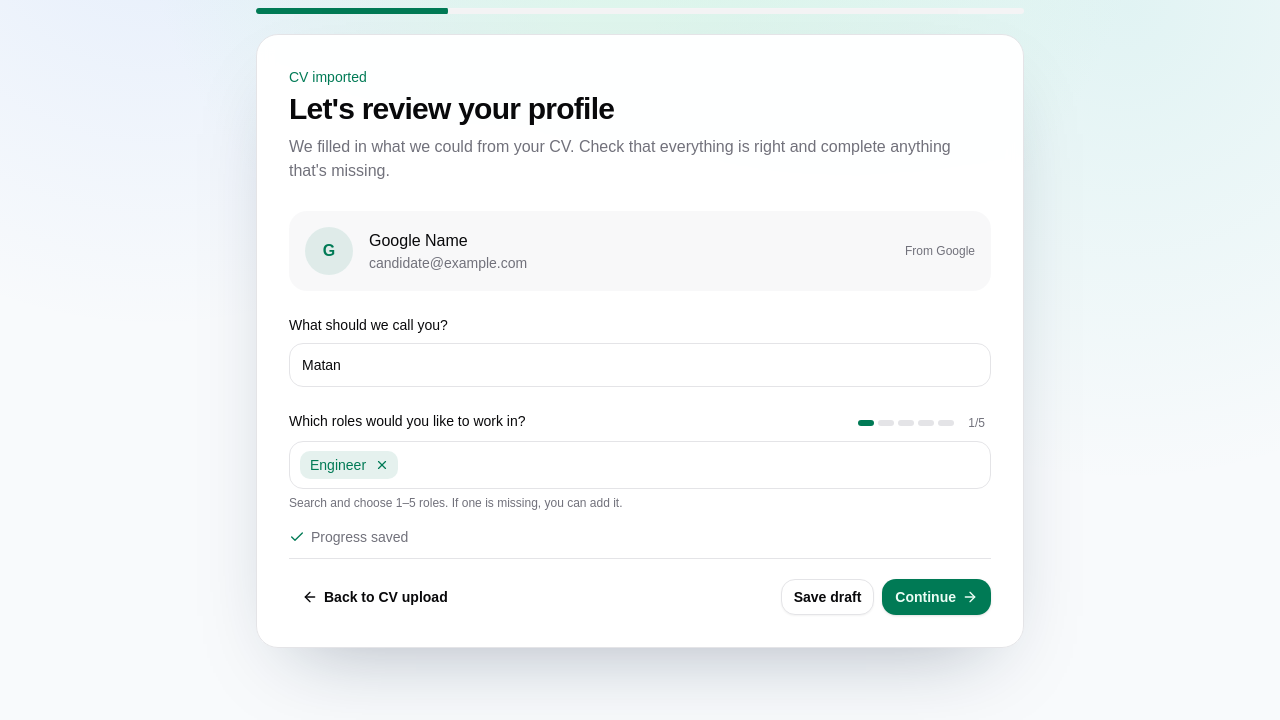
Test: dashboard and completed profile editing › opens the full editable onboarding review after CV extraction
The width and height of the screenshot is (1280, 720).
(page scrolled)
expect the heading "Let's review your profile" is shown: met, box [289, 92, 614, 125]
expect the text "Engineer" is shown: met, box [310, 455, 366, 475]
What coordinates should you click on to do the following:
click the button "Continue"
I would click on:
 (937, 597)
Its box is [882, 579, 991, 615].
(page scrolled)
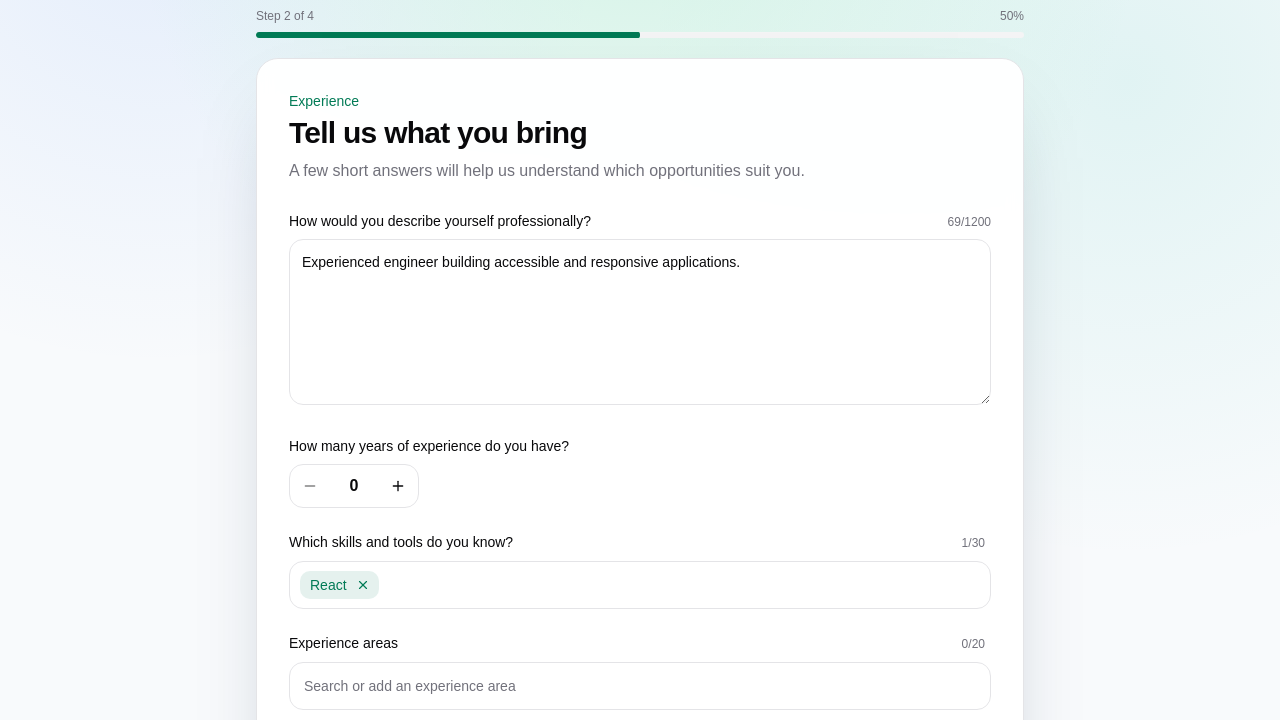
expect the text "React" is shown: met, box [310, 575, 347, 595]
